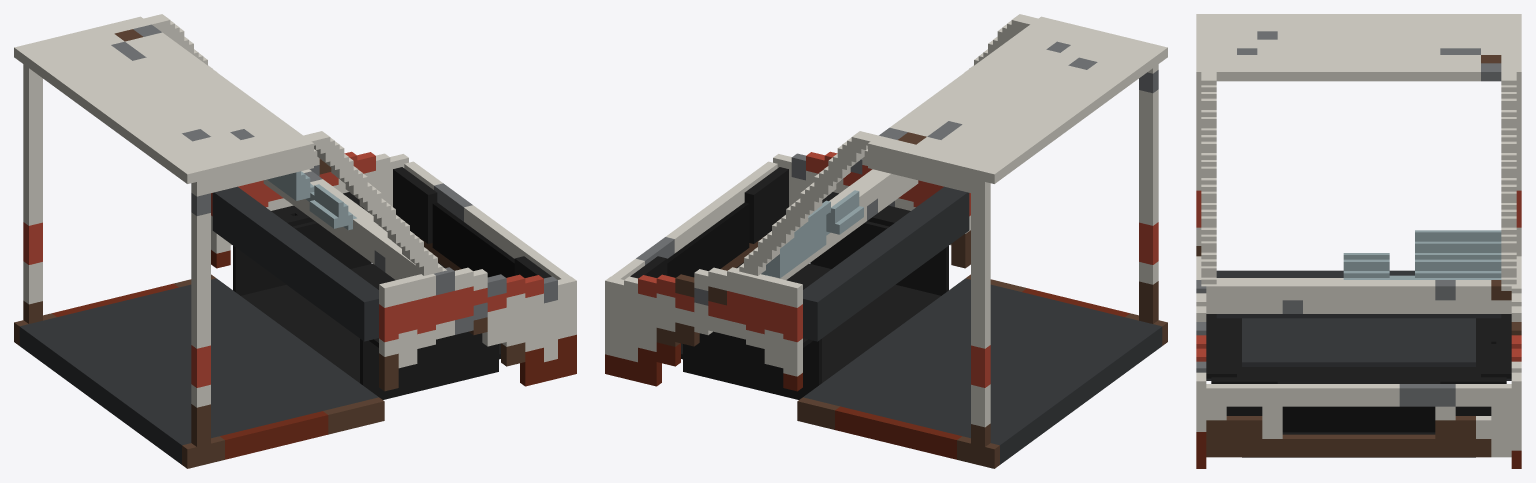
The model's file is abandoned_ambulance_cab.glb.
The picture shows the model from 3 angles, left to right: view 1: azimuth 30°, elevation 25°; view 2: azimuth 150°, elevation 25°; view 3: azimuth 270°, elevation 25°; orthographic projection. The views are drawn at different scales.
Parts seen in each view (by area): view 1: body:compound; view 2: body:compound; view 3: body:compound.
Boxes of the visible parts, box(x1,y1,x2,y2) form: body:compound: box(14, 14, 576, 468); body:compound: box(605, 14, 1167, 468); body:compound: box(1196, 14, 1521, 468).
Size of the model in its own units: 2.62 by 1.88 by 2.
